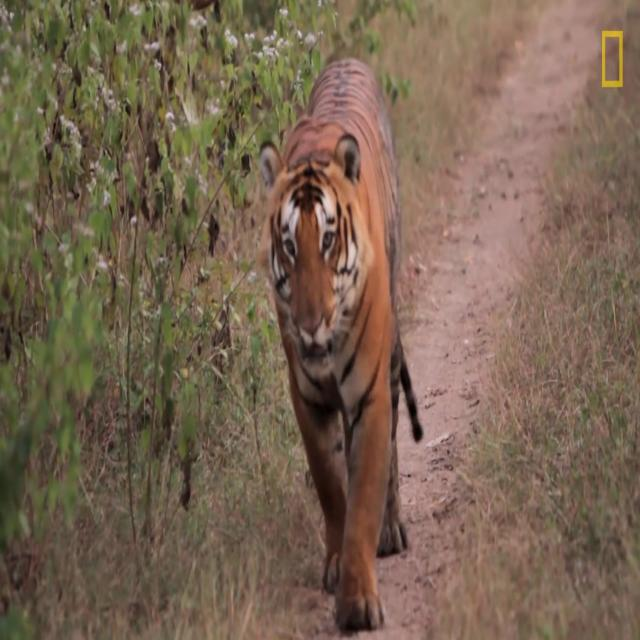TIGER: (262, 59, 423, 627)
